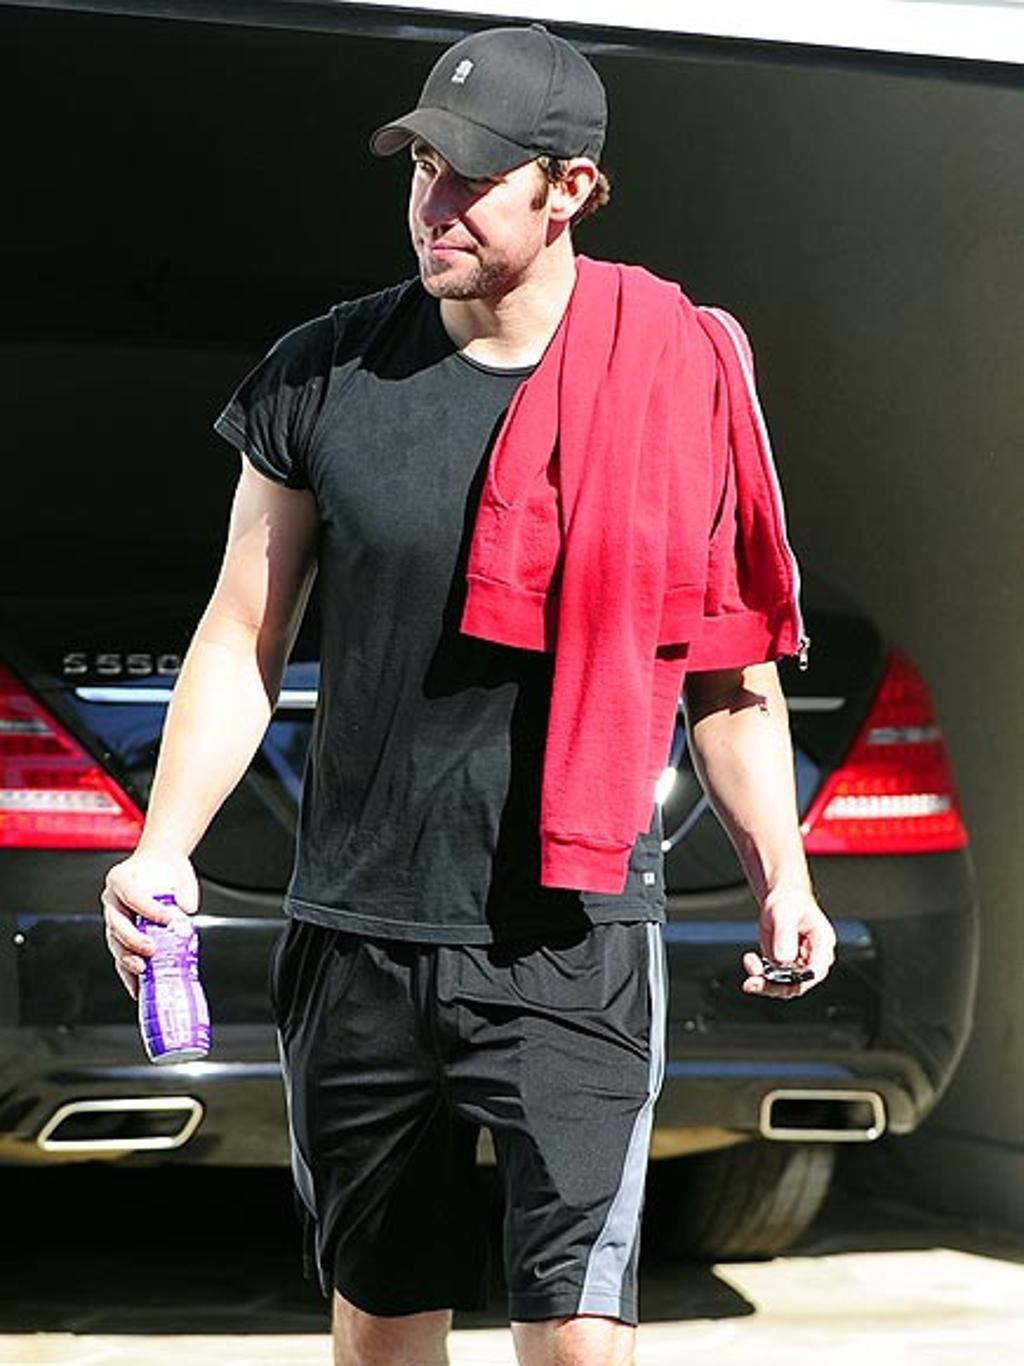face: (412, 108, 556, 297)
